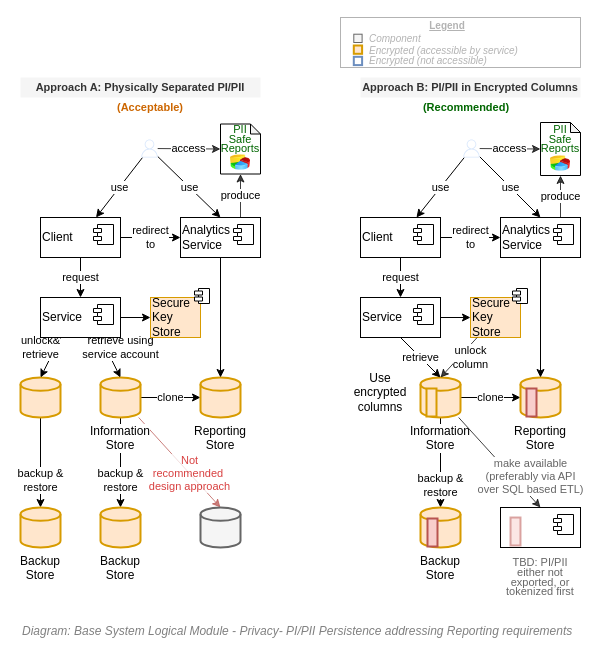
The diagram is 600 pixels wide and 659 high, and some of its shapes have lost their labels. The shapes that lost their labels are listed below. From the top down, each one's centre as x and y in pixels, then its label:
At point (40, 397): "PII Store".
At point (220, 527): "Archive Store".
At point (540, 527): "Data warehouse".
